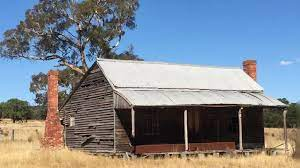Tin-shade House: (56, 50, 280, 153)
